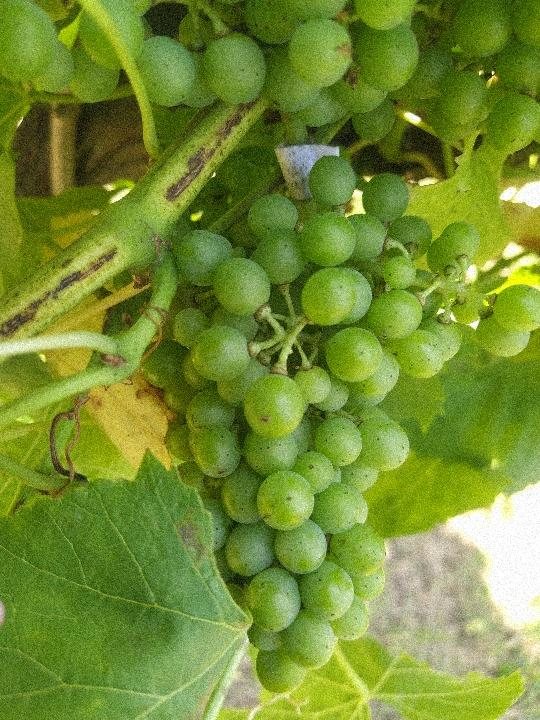grape: (140, 156, 536, 695)
